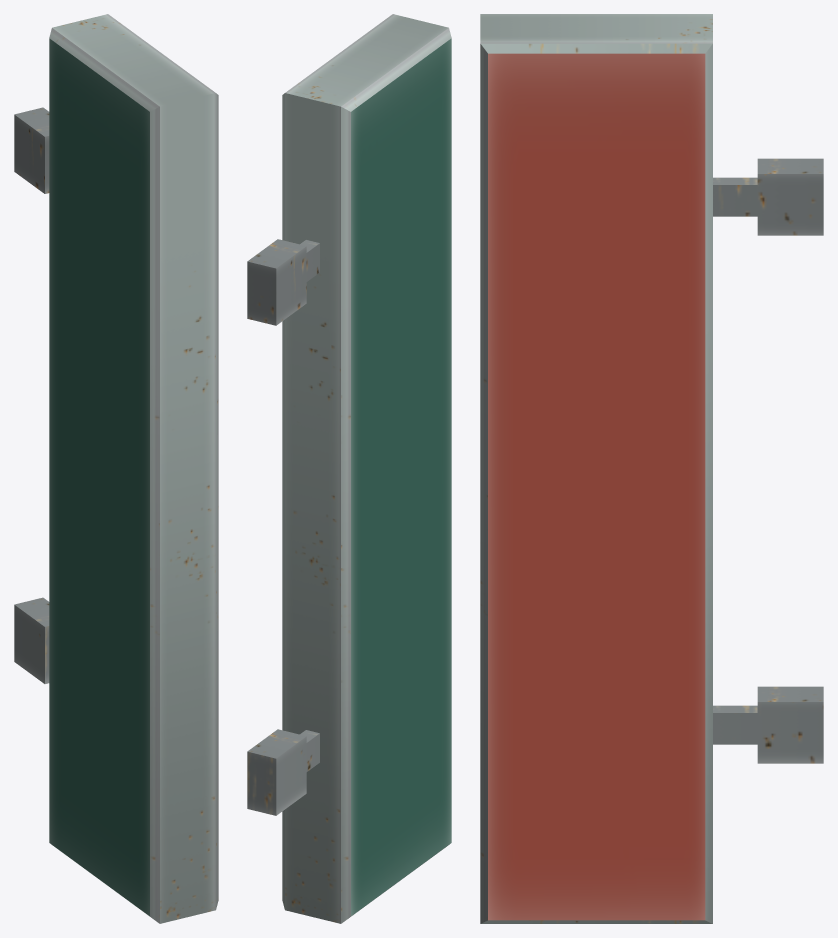
File: bil_m_signbrd_a01.fbx
3 renders of one model, left to right at view 1: azimuth 30°, elevation 25°; view 2: azimuth 150°, elevation 25°; view 3: azimuth 270°, elevation 25°, orthographic. The views are drawn at different scales.
Parts seen in each view (by area): view 1: bil_m_signbrd_b; view 2: bil_m_signbrd_b; view 3: bil_m_signbrd_b.
Boxes of the visible parts, left/top/right/bottom form: bil_m_signbrd_b: left=14, top=14, right=218, bottom=923; bil_m_signbrd_b: left=247, top=14, right=451, bottom=923; bil_m_signbrd_b: left=480, top=14, right=823, bottom=923.
Size of the model in its own units: 24.2 by 275 by 97.2.
